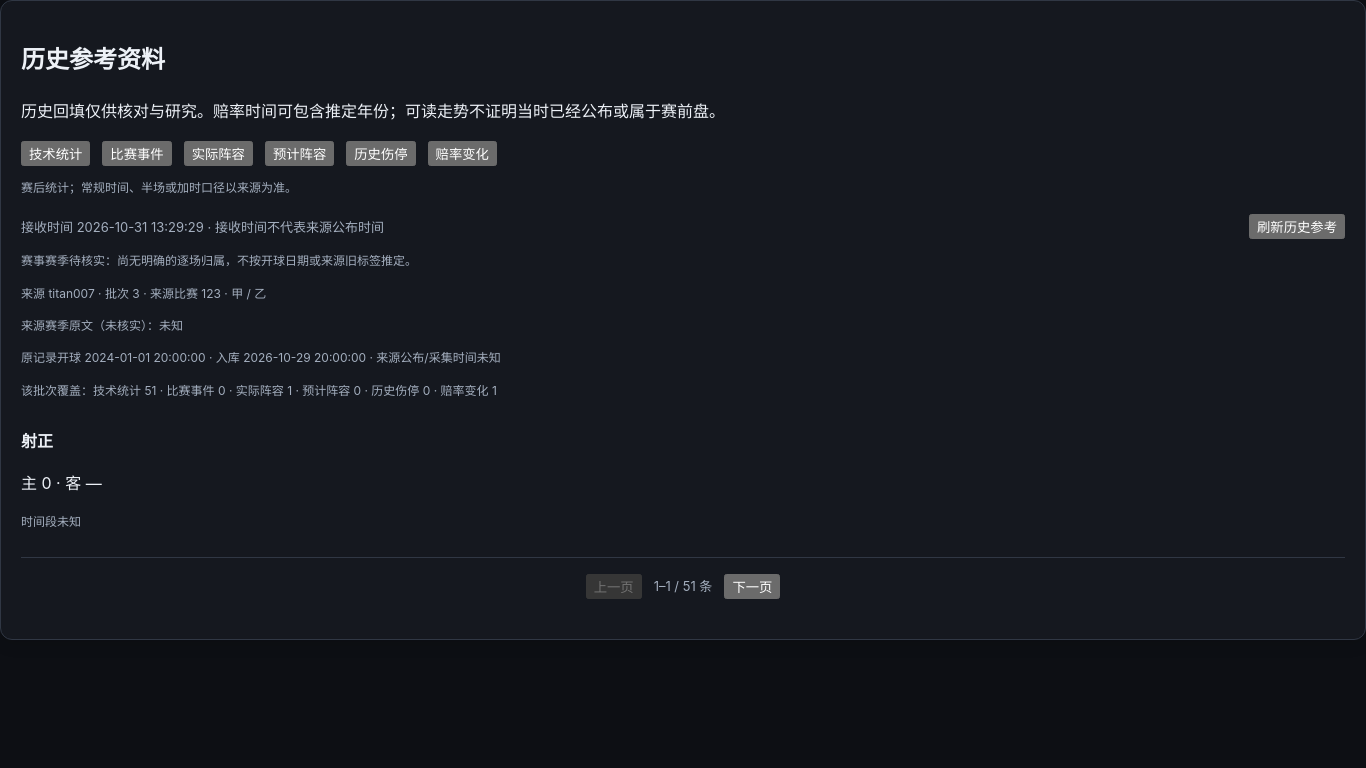
Test case: uses resolved odds timestamps despite false raw JSON flags
Expected: the text "射正" is shown, 21,431 -> 53,451
Click the button "赔率变化". click: (462, 153)
box: 428,141 -> 497,166
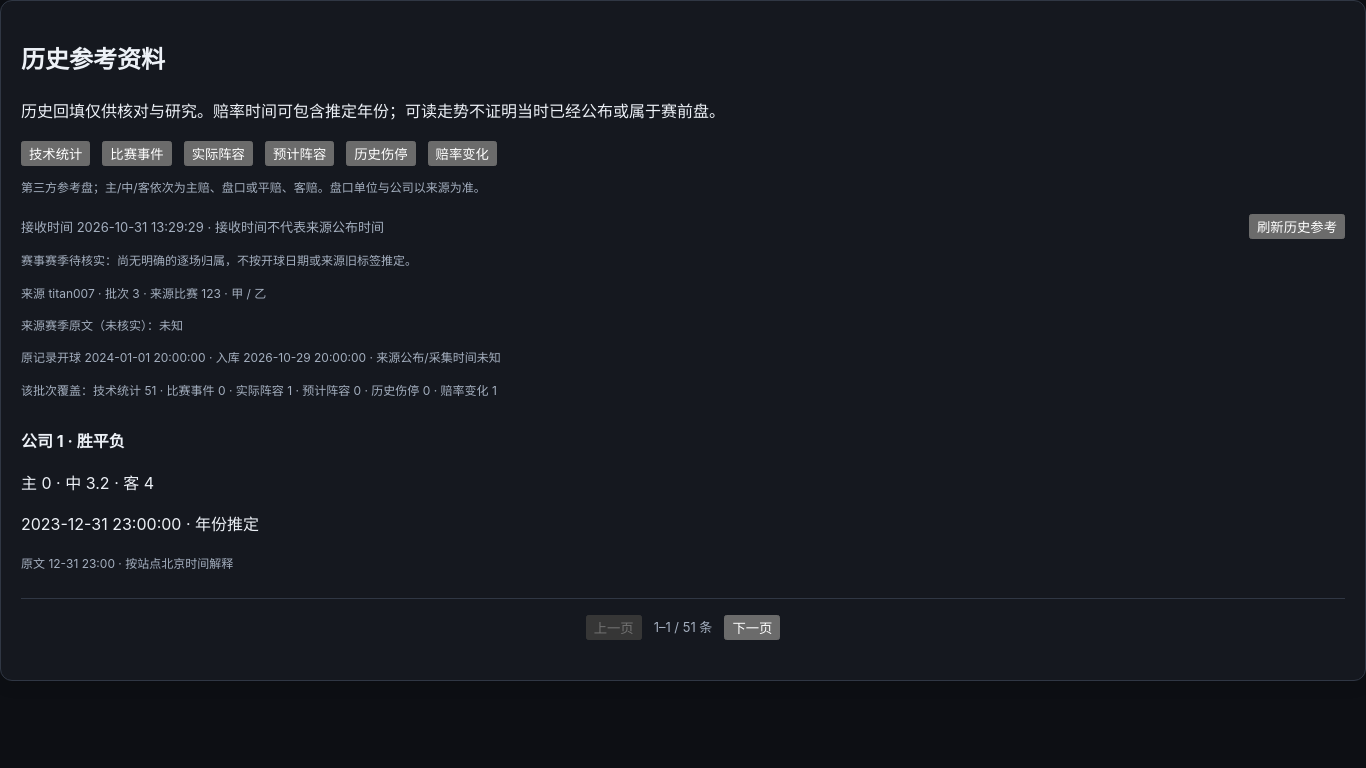
Now the text "2023-12-31 23:00:00 · 年份推定" is shown, box 21,514 -> 259,534
Now the text "主 0 · 中 3.2 · 客 4" is shown, box 21,473 -> 154,493
